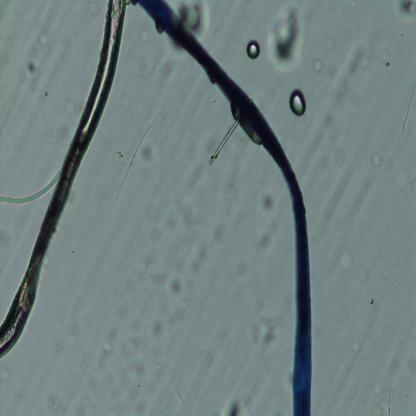Air bubble: (288, 84, 307, 118), (244, 36, 260, 62)
Background material: (263, 0, 302, 74), (92, 316, 124, 372), (208, 121, 243, 167), (172, 0, 210, 38), (246, 309, 278, 348), (130, 136, 156, 164), (252, 226, 274, 255), (206, 222, 232, 246), (256, 187, 278, 212), (221, 395, 247, 416), (166, 274, 188, 298), (351, 338, 367, 371), (390, 163, 410, 188), (348, 47, 364, 74), (193, 243, 206, 272), (366, 148, 383, 170), (398, 0, 416, 20), (320, 104, 334, 129), (86, 1, 100, 16), (341, 253, 354, 268), (382, 49, 392, 68), (328, 33, 337, 52), (312, 60, 321, 75), (410, 180, 416, 192)
Cellulose filter fibre: (0, 0, 130, 354)
Cotton: (133, 0, 315, 416)
Glass filter fibre: (0, 168, 62, 208)
